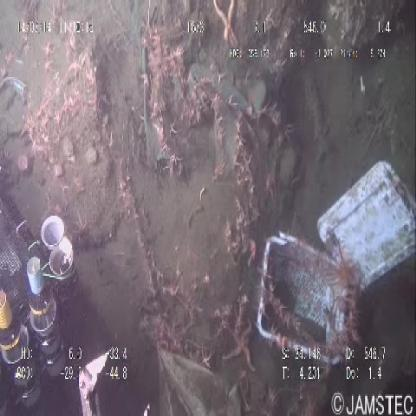Rov: (1, 140, 158, 416)
Rác: (253, 151, 416, 388)
